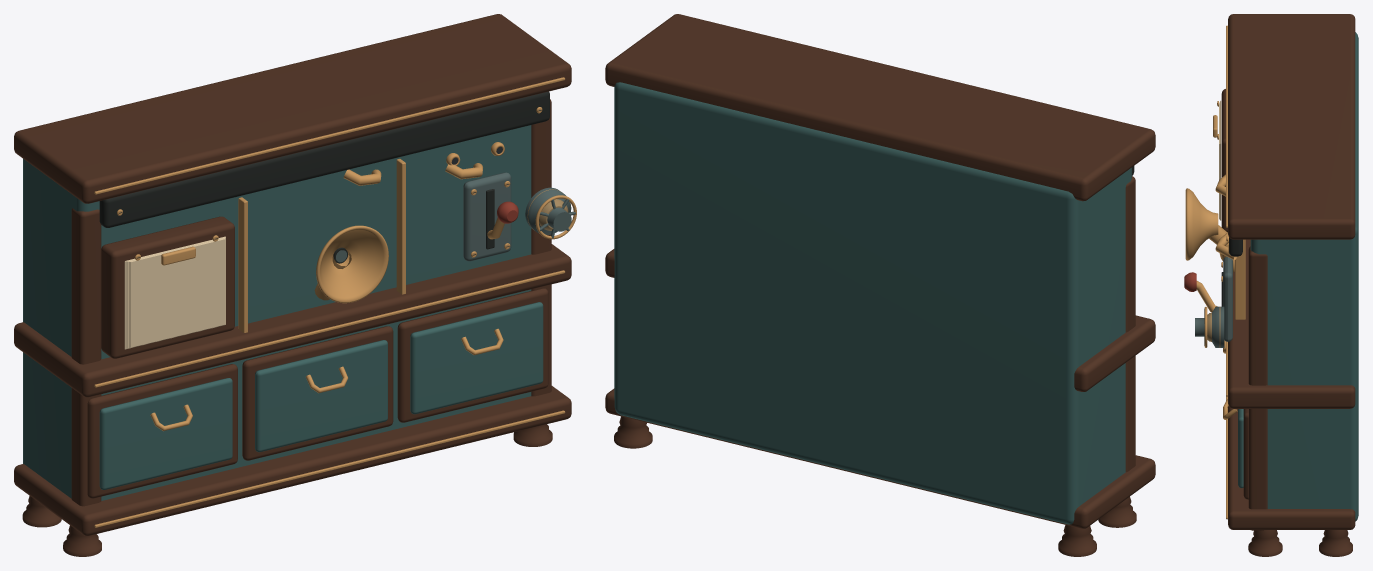
The model's file is exchange.glb.
3 views of the same model, side by side, from view 1: azimuth 30°, elevation 25°; view 2: azimuth 150°, elevation 25°; view 3: azimuth 270°, elevation 25° (orthographic). The views are drawn at different scales.
Parts seen in each view (by area): view 1: Carcass, Projecting moulded rail.002, Projecting moulded rail.001, Projecting moulded rail, Cast header plate, Fielded walnut panel.002, Fielded walnut panel, Fielded walnut panel.001, Deckled folio leaf.004, Ebonised stile, Dovetailed document tray, Recessed door panel.002 (+14 smaller); view 2: Carcass, Projecting moulded rail.002, Projecting moulded rail, Ebonised stile, Projecting moulded rail.001, Turned pilaster foot.001, Turned pilaster foot.003, Turned pilaster foot; view 3: Projecting moulded rail.002, Carcass, Projecting moulded rail.001, Ebonised stile.001, Projecting moulded rail, Spun trumpet with inner wall, Slotted throw plate, Turned pilaster foot.002, Turned pilaster foot.003, Station divider.001, Reel spindle, Dovetailed document tray (+7 smaller).
Part boxes in pixels (x1=…): Carcass: x1=23, y1=125, x2=531, y2=500; Projecting moulded rail.002: x1=14, y1=14, x2=571, y2=203; Projecting moulded rail.001: x1=14, y1=244, x2=571, y2=397; Projecting moulded rail: x1=14, y1=386, x2=571, y2=535; Cast header plate: x1=99, y1=91, x2=549, y2=227; Fielded walnut panel.002: x1=410, y1=302, x2=543, y2=414; Fielded walnut panel: x1=99, y1=378, x2=232, y2=489; Fielded walnut panel.001: x1=255, y1=340, x2=387, y2=452; Deckled folio leaf.004: x1=130, y1=239, x2=225, y2=347; Ebonised stile: x1=71, y1=208, x2=101, y2=506; Dovetailed document tray: x1=101, y1=216, x2=234, y2=358; Recessed door panel.002: x1=397, y1=288, x2=548, y2=422; Carcass: x1=614, y1=82, x2=1131, y2=524; Projecting moulded rail.002: x1=605, y1=14, x2=1155, y2=201; Projecting moulded rail: x1=605, y1=388, x2=1155, y2=528; Ebonised stile: x1=1125, y1=176, x2=1135, y2=472; Projecting moulded rail.001: x1=605, y1=249, x2=1155, y2=391; Turned pilaster foot.001: x1=1058, y1=525, x2=1096, y2=556; Turned pilaster foot.003: x1=614, y1=416, x2=652, y2=448; Turned pilaster foot: x1=1098, y1=496, x2=1136, y2=527; Projecting moulded rail.002: x1=1228, y1=14, x2=1355, y2=239; Carcass: x1=1250, y1=32, x2=1358, y2=521; Projecting moulded rail.001: x1=1228, y1=239, x2=1355, y2=408; Ebonised stile.001: x1=1248, y1=246, x2=1267, y2=530; Projecting moulded rail: x1=1228, y1=406, x2=1355, y2=529; Spun trumpet with inner wall: x1=1185, y1=188, x2=1218, y2=260; Slotted throw plate: x1=1223, y1=256, x2=1232, y2=341; Turned pilaster foot.002: x1=1248, y1=530, x2=1282, y2=556; Turned pilaster foot.003: x1=1319, y1=530, x2=1352, y2=556; Station divider.001: x1=1235, y1=239, x2=1245, y2=319; Reel spindle: x1=1195, y1=306, x2=1224, y2=347; Dovetailed document tray: x1=1221, y1=89, x2=1227, y2=231.
Bounding box in the file's own units: 2.52 × 1.9 × 0.889.
